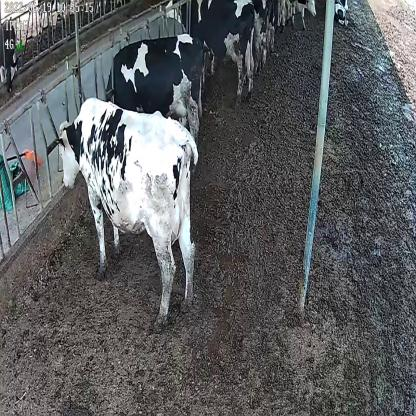cow: (55, 95, 198, 330), (100, 34, 209, 140), (159, 0, 257, 111), (334, 0, 351, 26)
